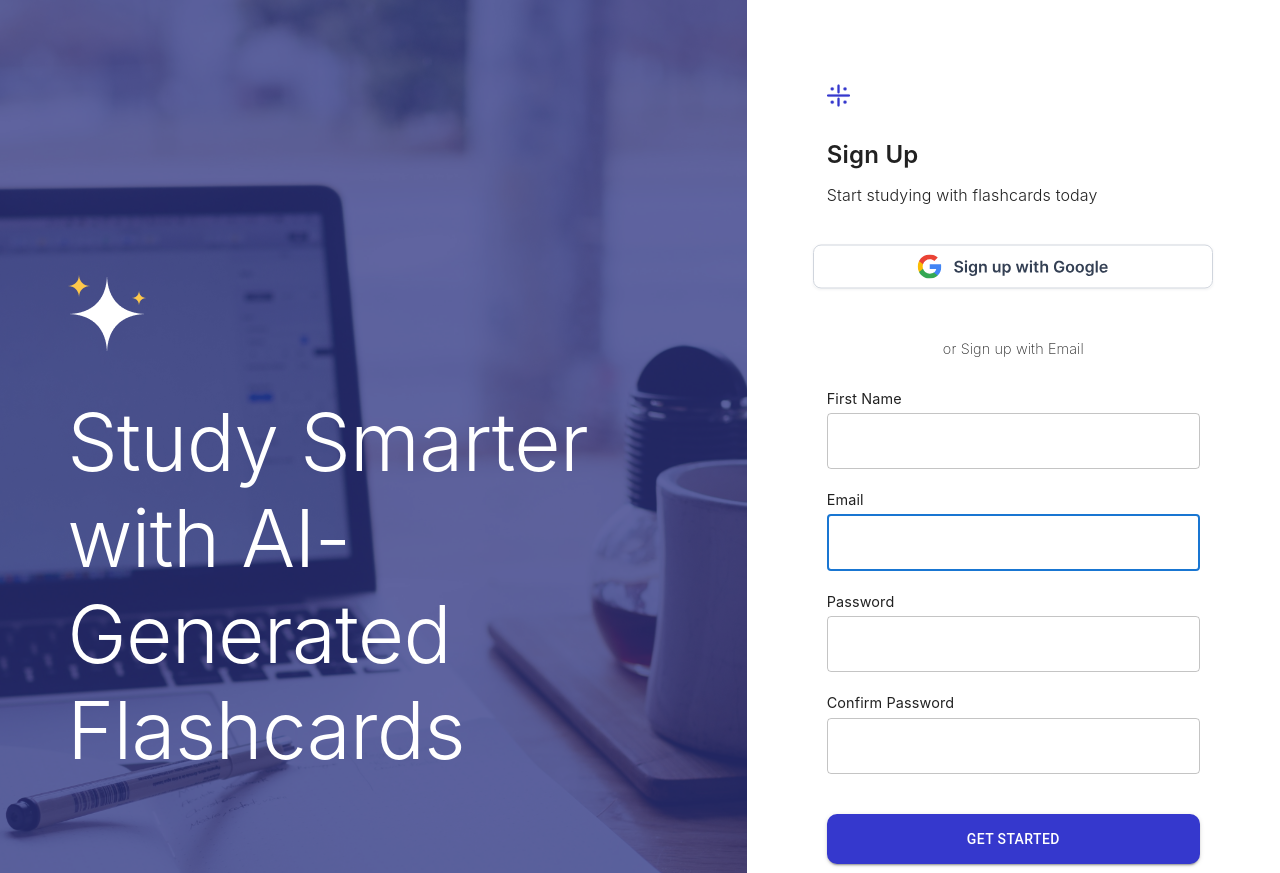
Test: Register Component › displays email error when invalid email is entered
Step 1. Type "invalidemail" into the field with test id "email" → (1013, 543), box top-left (827, 515), bottom-right (1200, 571)
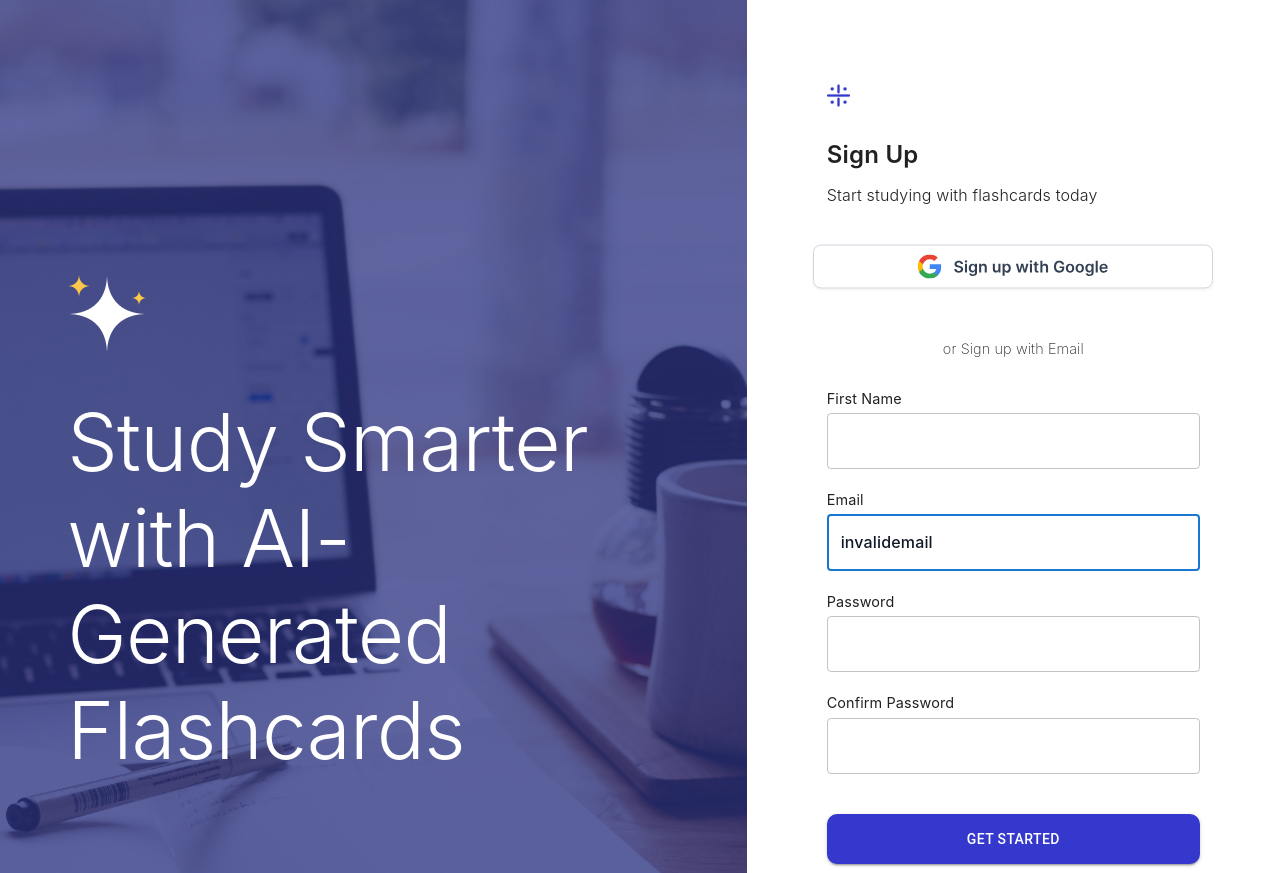
Step 2. Click the button "Get started" → click(1013, 839), box top-left (827, 814), bottom-right (1200, 864)
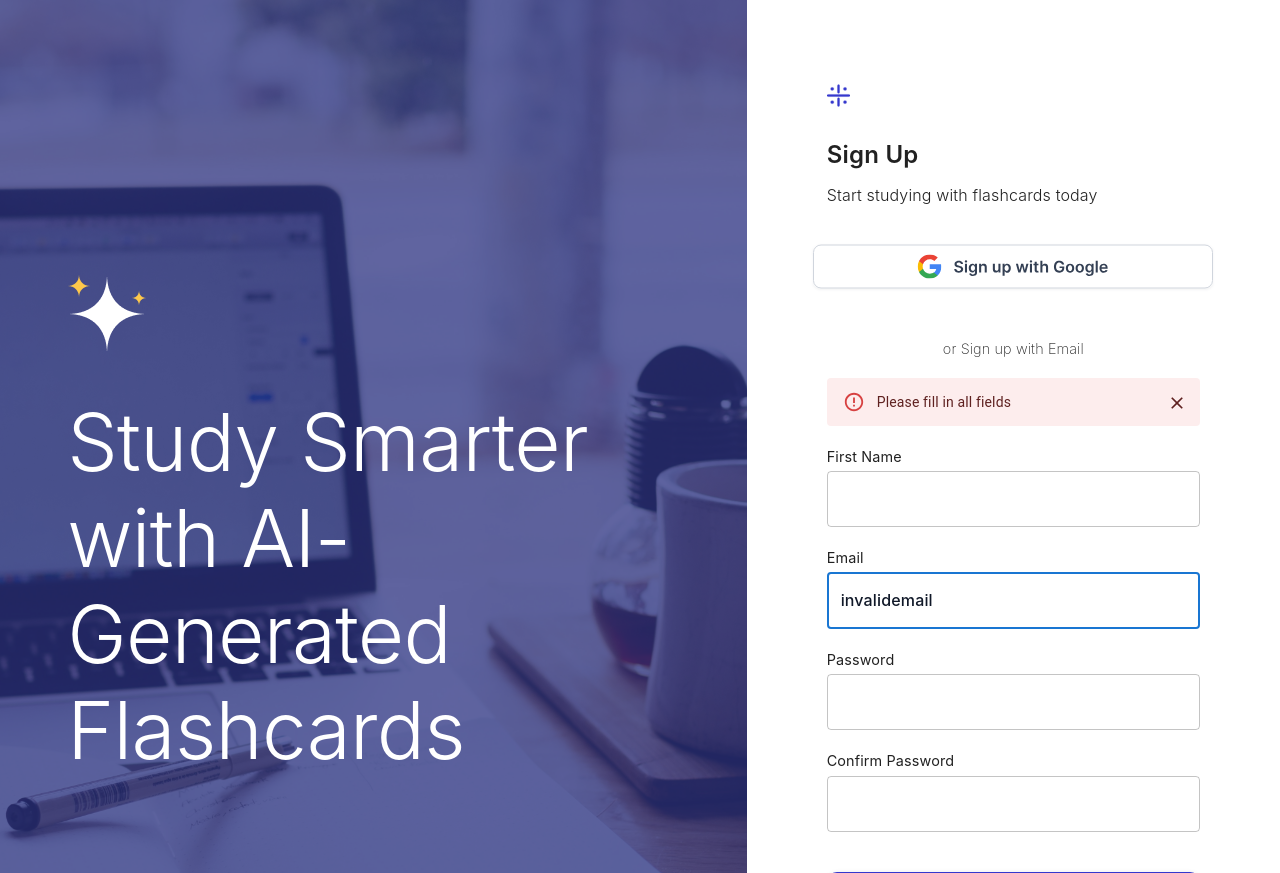
Check: the text "Please fill in all fields" is shown, box top-left (877, 394), bottom-right (1011, 410)
